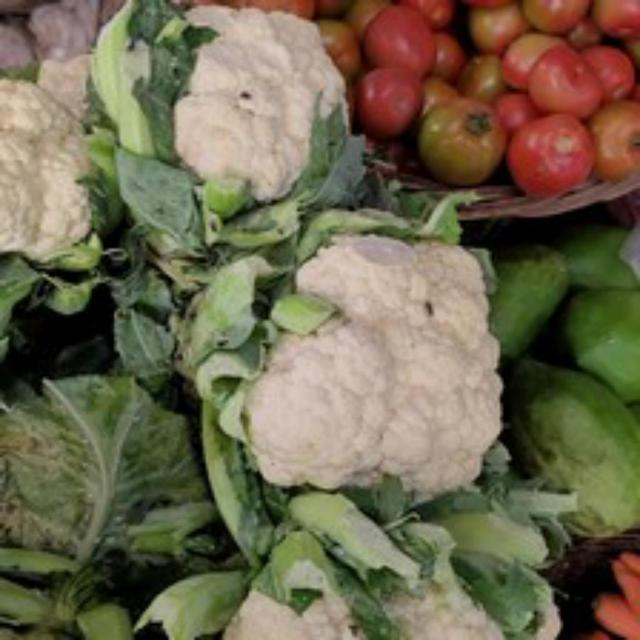cauliflower: (252, 222, 512, 516)
